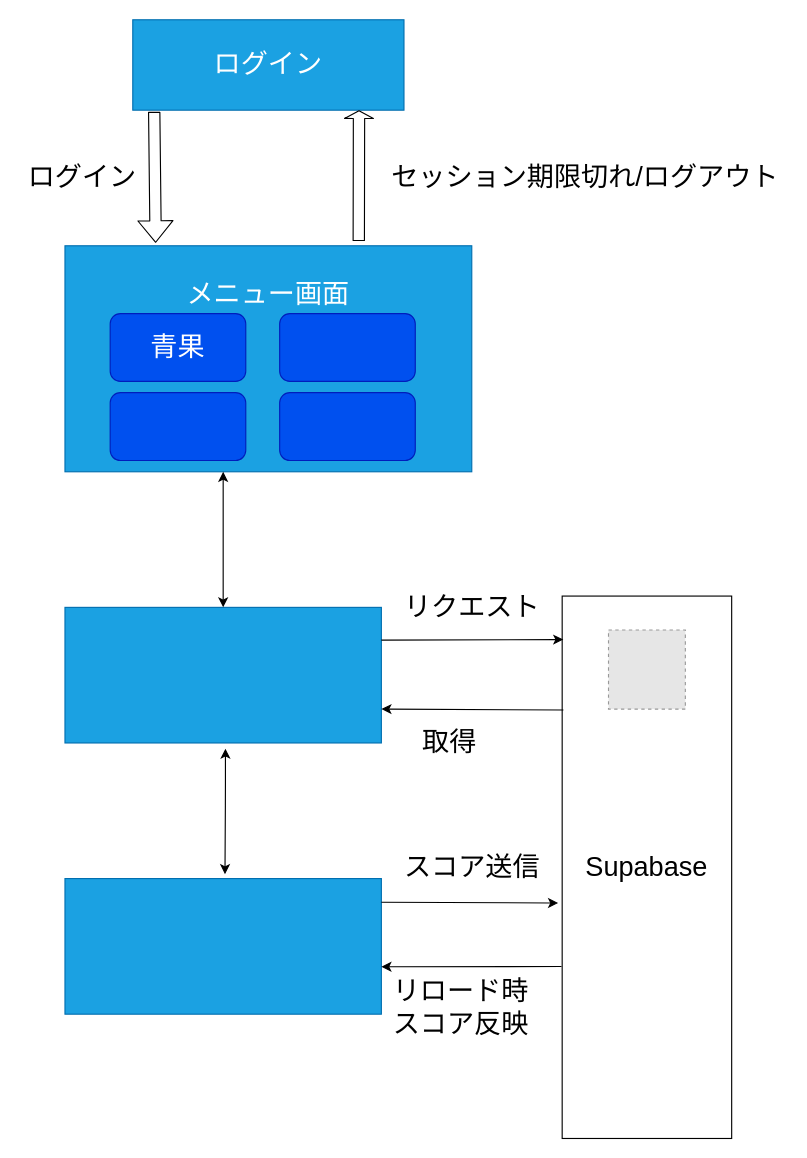
Image size: 807x1158. Some labels were removed from this diagram. Grey dashed boxes stand in for pictures. Each missing label, with the centre of its shape:
スキル入力: point 222,945
検索: point 222,674
